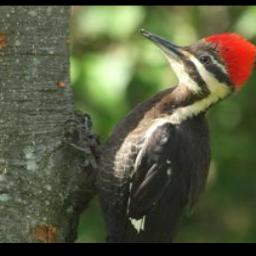Woodpecker: (66, 27, 256, 241)
